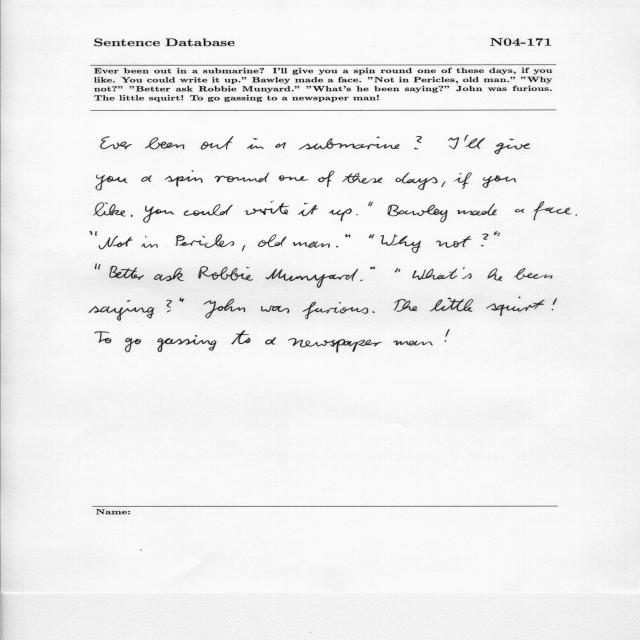word: (265, 269, 358, 288), (288, 338, 382, 353), (89, 300, 154, 321), (299, 137, 399, 150), (303, 302, 369, 319), (487, 297, 545, 316), (388, 205, 448, 223), (158, 335, 217, 352), (204, 299, 246, 319), (175, 234, 234, 248), (198, 266, 253, 281), (380, 234, 421, 253), (396, 172, 438, 190), (534, 201, 572, 220), (165, 170, 203, 187), (430, 297, 473, 312), (245, 201, 289, 215), (183, 204, 233, 216), (494, 139, 530, 154), (215, 173, 269, 183), (143, 206, 174, 223), (96, 175, 128, 191), (413, 269, 458, 280), (456, 204, 497, 216), (109, 266, 144, 280), (145, 138, 184, 150), (514, 268, 553, 280), (201, 136, 234, 150), (93, 203, 126, 217), (99, 236, 133, 249), (483, 175, 516, 188), (436, 236, 471, 248), (101, 137, 132, 150), (343, 173, 383, 183), (154, 268, 184, 281), (258, 235, 287, 248), (453, 172, 472, 189), (231, 330, 251, 345), (329, 209, 352, 222), (394, 299, 417, 312), (465, 135, 486, 149), (298, 203, 318, 216), (293, 241, 330, 248), (318, 171, 334, 187), (125, 338, 141, 352), (141, 235, 158, 248), (393, 341, 433, 346), (261, 306, 289, 313), (487, 268, 502, 281), (95, 332, 111, 344), (247, 138, 264, 149), (278, 175, 309, 181), (448, 137, 459, 149), (462, 267, 472, 279), (414, 136, 422, 149), (481, 234, 488, 247), (265, 337, 276, 345), (275, 142, 286, 149), (141, 175, 152, 182), (166, 300, 172, 312), (445, 329, 450, 342), (552, 299, 557, 311), (515, 209, 524, 213), (90, 231, 97, 236), (441, 182, 446, 188), (369, 234, 375, 239), (494, 232, 500, 237), (95, 264, 100, 270), (368, 202, 373, 207), (242, 245, 246, 251), (346, 234, 351, 238), (395, 268, 400, 272), (180, 298, 184, 302), (370, 267, 375, 269), (372, 311, 375, 313), (131, 215, 133, 217), (576, 214, 578, 216), (360, 280, 363, 281), (356, 214, 358, 215), (336, 246, 338, 247)
